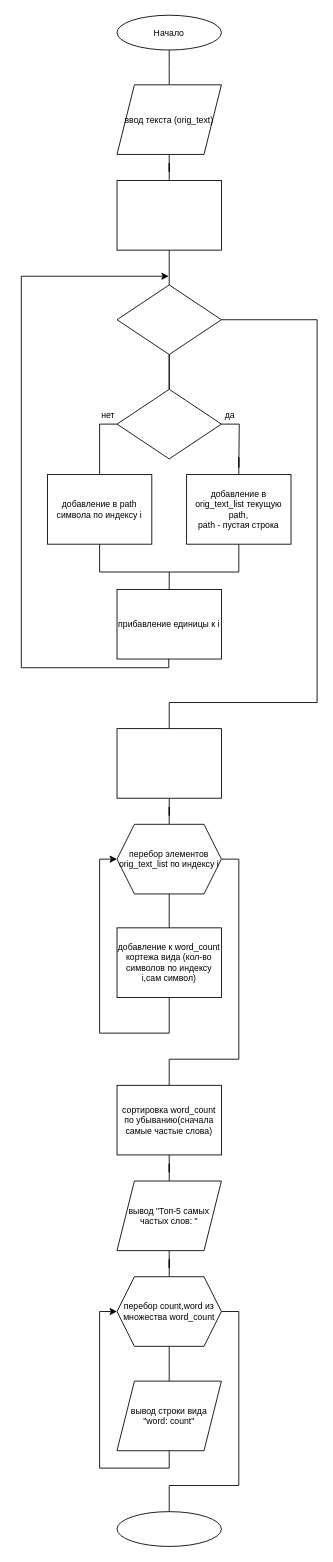
This 333x1562 diagram has some shape labels left out. Here are the shapes that lost their labels. From the top down, the centre of each, then its label:
(168,215): пустая строка path, индекс i = 0, пустой список orig_text_list
(168,319): индекс i меньше либо равен (длина текста - 1)
(168,423): элемент текста по индексу i равен ' '
(168,763): пустое множество word_count
(168,1528): Конец
